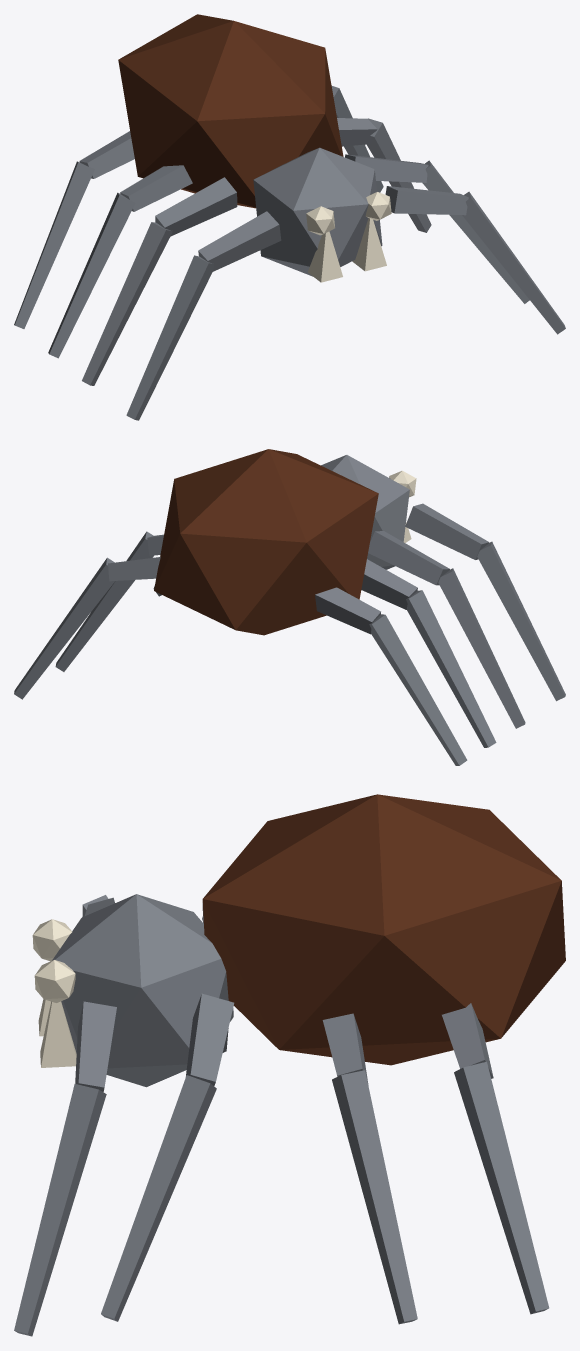
File: npcpose_spider_walk_04.glb
The picture shows the model from 3 angles, top to bottom: view 1: azimuth 30°, elevation 25°; view 2: azimuth 150°, elevation 25°; view 3: azimuth 270°, elevation 25°; orthographic projection. The views are drawn at different scales.
Visible parts, largest first — view 1: npcpose; view 2: npcpose; view 3: npcpose.
Boxes of the visible parts, x1,y1,x2,y2 form: npcpose: [14, 14, 565, 420]; npcpose: [14, 449, 565, 765]; npcpose: [14, 794, 565, 1336].
Bounding box in the file's own units: 1.33 × 0.8422 × 1.03.
